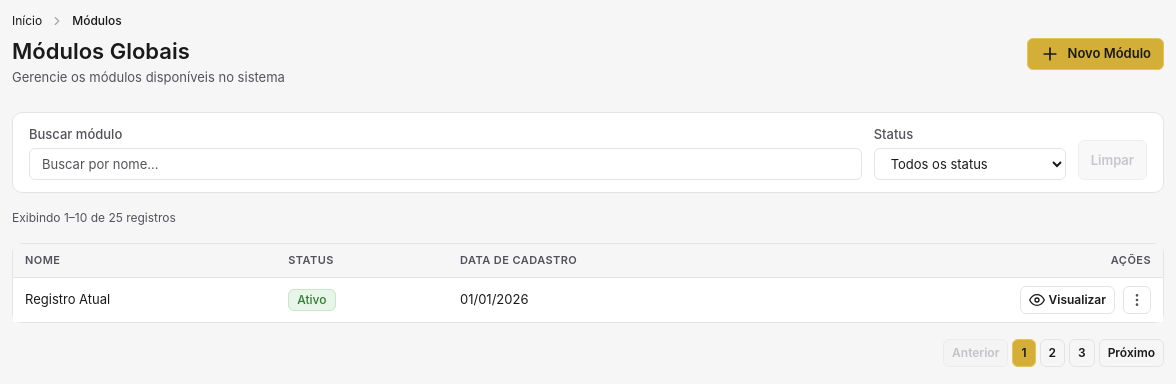
Scenario: Consultas de modulos › preserva debounce, busca e regras existentes de espaços, e limpa filtros
Click the button named "Ir para a página 2" at (1052,353), box 1040,339 -> 1065,367
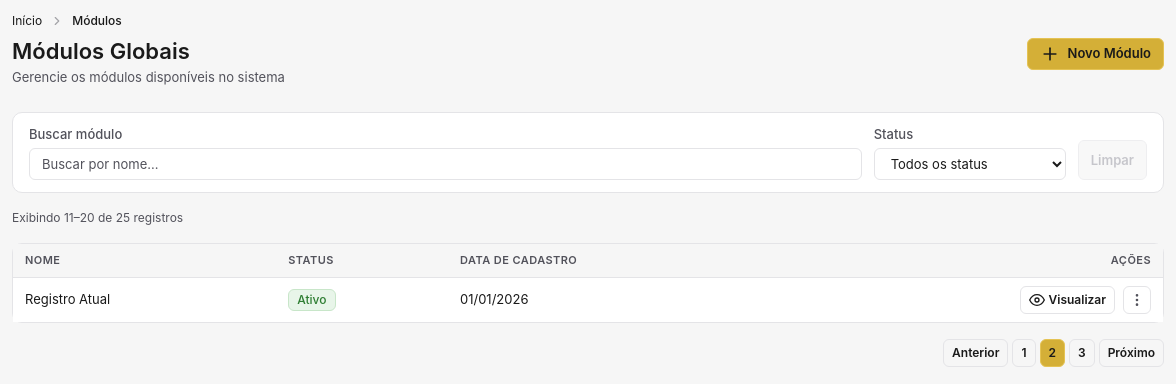
Type "JO" into the field at (445,164), box 29,148 -> 862,180
Wait 499 ms
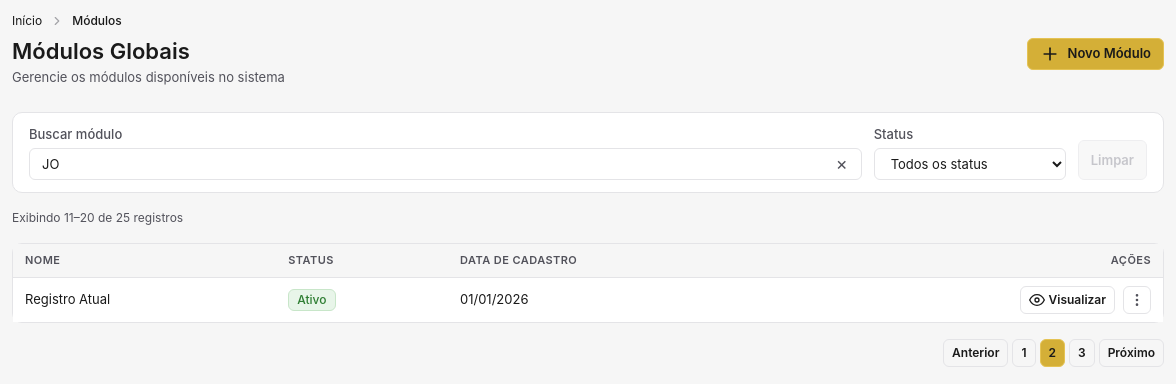
Replace the text in the field with "  JOÃO  " at (445,164), box 29,148 -> 862,180
Wait 500 ms
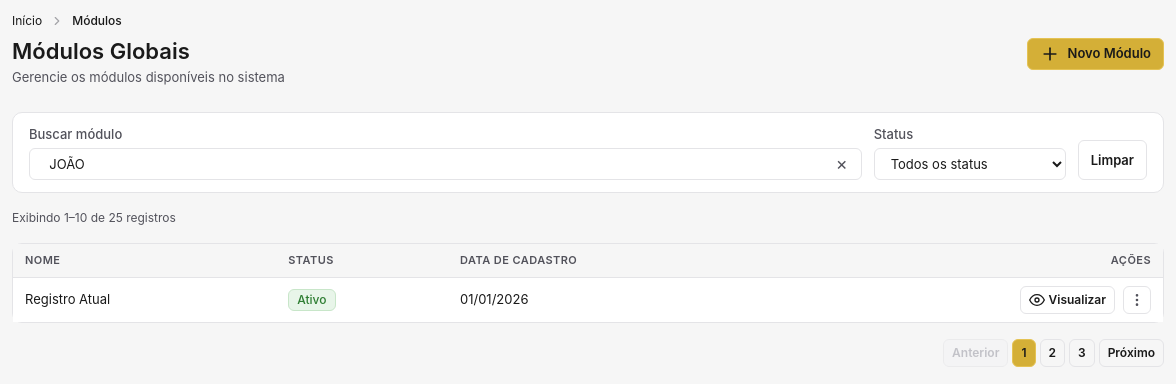
Select "Inativos" in the dropdown labelled "Status" at (970,164), box 874,148 -> 1066,180
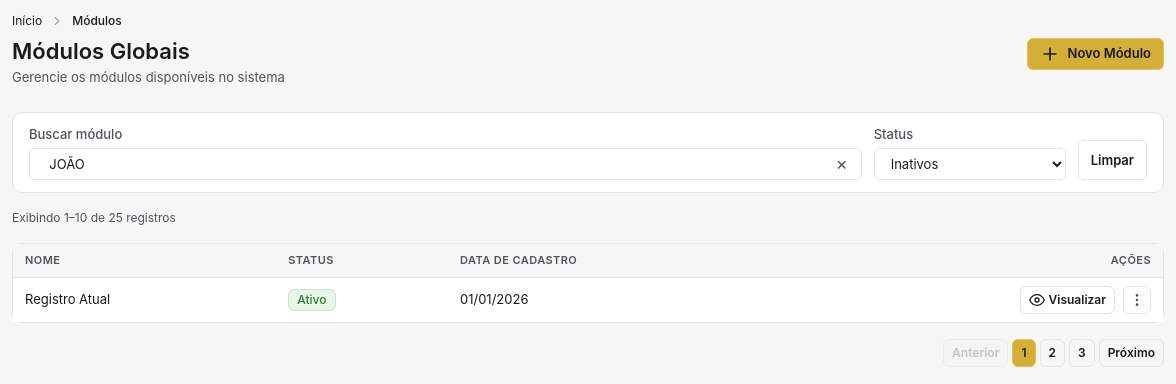
Click the button "Limpar" at (1112,160), box 1078,140 -> 1147,180
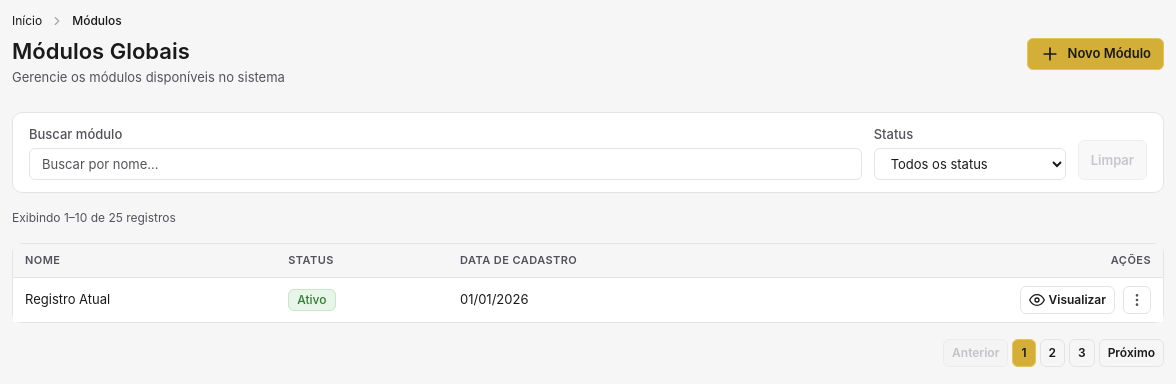
Expected: the field is empty, 29,148 -> 862,180
Expected: the button "Limpar" is disabled, 1078,140 -> 1147,180
